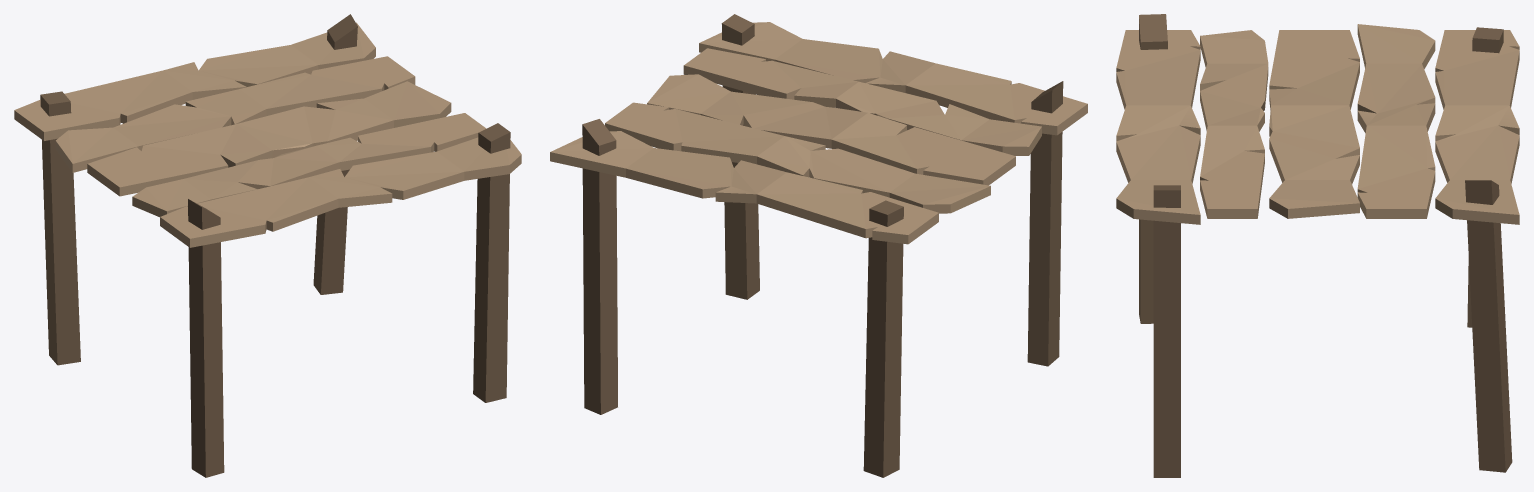
The model's file is Platform_6.fbx.
The picture shows the model from 3 angles, left to right: view 1: azimuth 30°, elevation 25°; view 2: azimuth 150°, elevation 25°; view 3: azimuth 270°, elevation 25°; orthographic projection. The views are drawn at different scales.
Visible parts, largest first — view 1: Platform_6; view 2: Platform_6; view 3: Platform_6.
Part boxes in pixels (x1,y1,x2,y2): Platform_6: (14,14,521,477); Platform_6: (550,14,1087,477); Platform_6: (1116,14,1519,477).
Bounding box in the file's own units: 339 × 246 × 302.
1 material, 1 textured.
